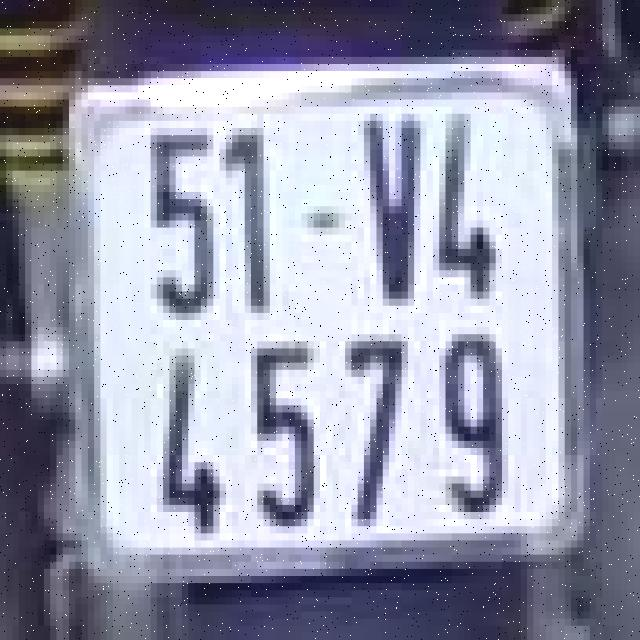1: (217, 114, 279, 320)
4: (144, 334, 232, 540), (436, 100, 499, 306)
5: (245, 323, 326, 537), (135, 125, 223, 316)
7: (336, 331, 411, 537)
9: (436, 320, 511, 519)
V: (358, 99, 427, 313)
